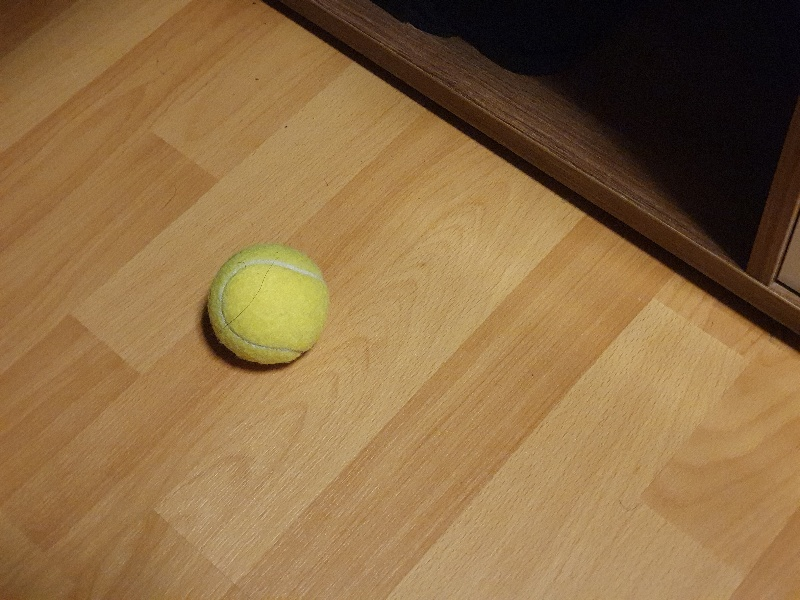Tennisball: (196, 235, 338, 375)
